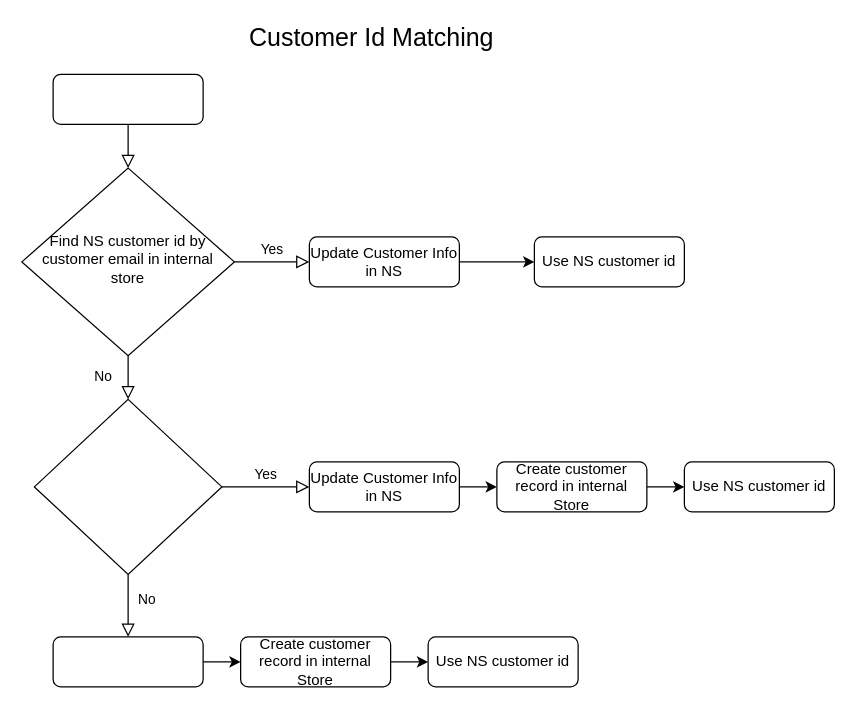
The diagram is 856 pixels wide and 710 high, and some of its shapes have lost their labels. Here are the shapes that lost their labels. From the top down, the centre of each, then its label:
the point at 127,98: Customer email
the point at 127,486: Use NS Search API to find customer by email
the point at 127,661: Create customer in NS
